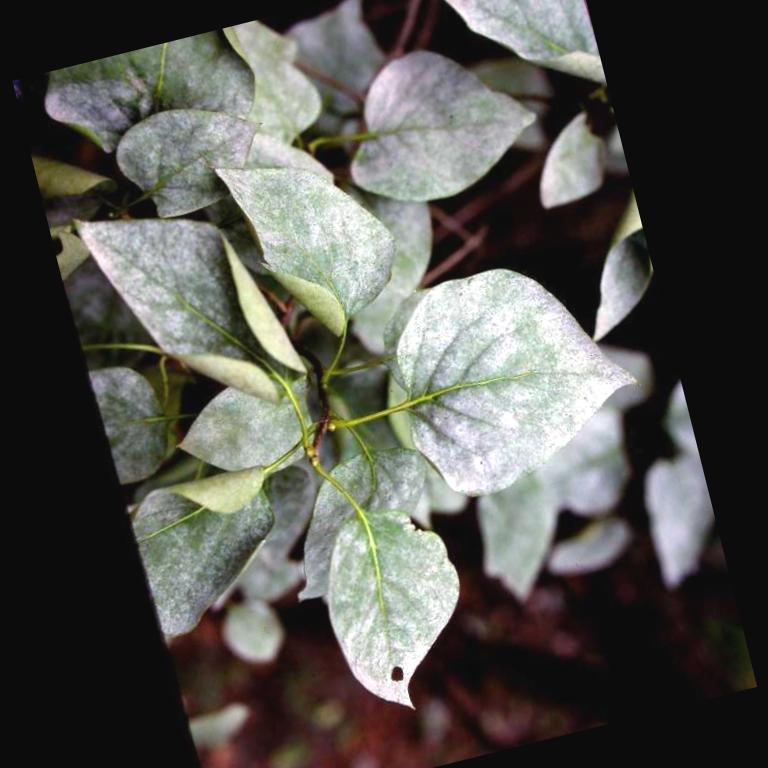powdery-mildew: (418, 297, 584, 466), (250, 165, 376, 298)
